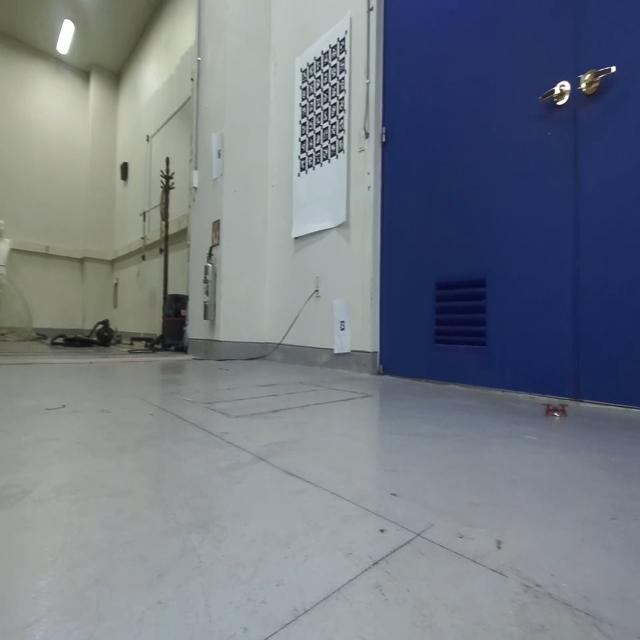crazyflie: (540, 400, 569, 424)
